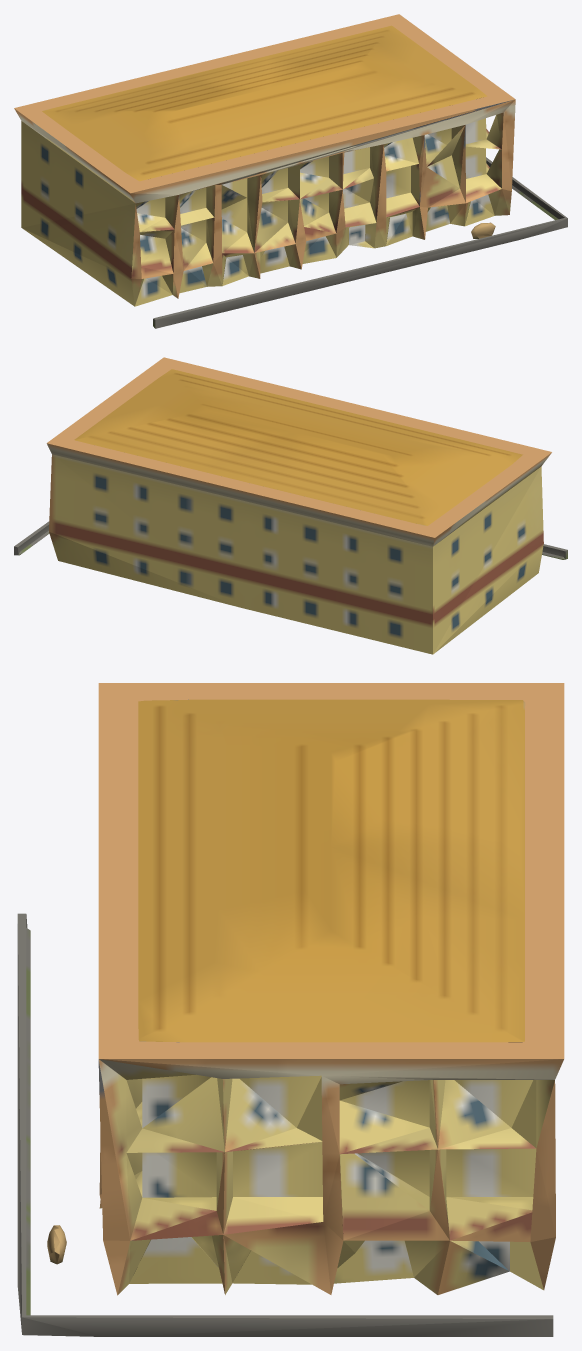
File: khach_san_grand_canh_nam.far.glb
3 views of the same model, one above another, from view 1: azimuth 30°, elevation 25°; view 2: azimuth 150°, elevation 25°; view 3: azimuth 270°, elevation 25° (orthographic). The views are drawn at different scales.
Visible parts, largest first — view 1: khach_san_grand_canh_nam; view 2: khach_san_grand_canh_nam; view 3: khach_san_grand_canh_nam.
Boxes of the visible parts, x1=… form: khach_san_grand_canh_nam: x1=14, y1=14, x2=567, y2=328; khach_san_grand_canh_nam: x1=14, y1=357, x2=567, y2=654; khach_san_grand_canh_nam: x1=17, y1=683, x2=564, y2=1336.
Bounding box in the file's own units: 44.4 × 13.75 × 25.
Materials: 3 (3 with a texture image).
